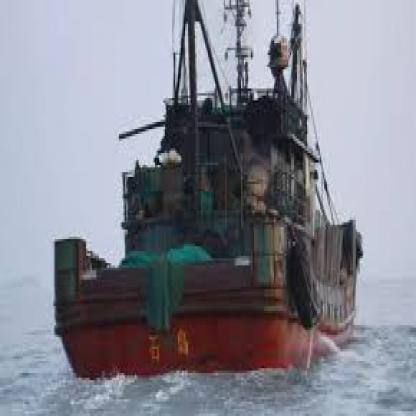fish-b: (36, 0, 369, 385)
